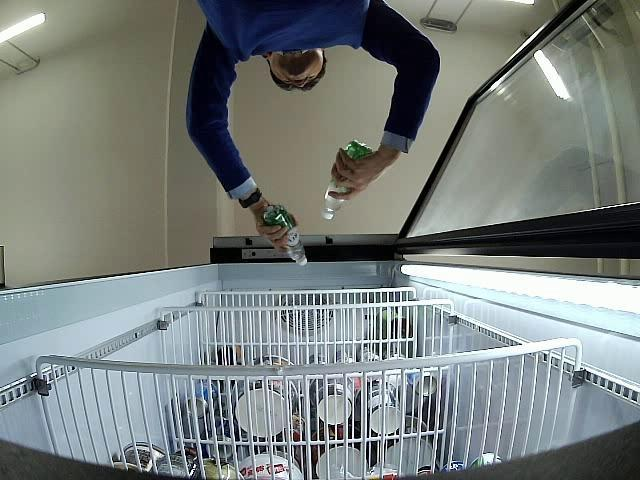18_trevi: (321, 139, 372, 220), (263, 202, 308, 266)
